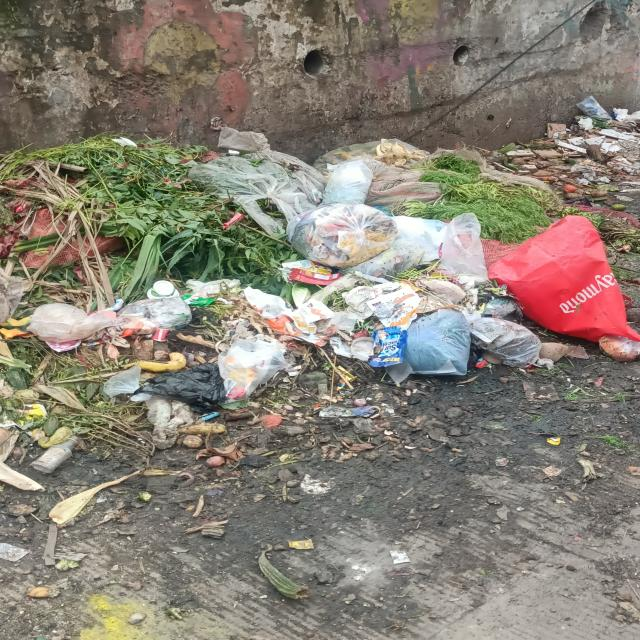garbage: (2, 119, 640, 468)
